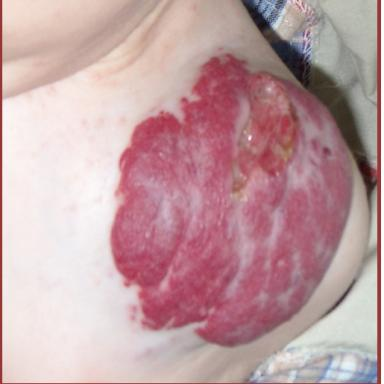Hemangiome: (112, 55, 249, 329)
